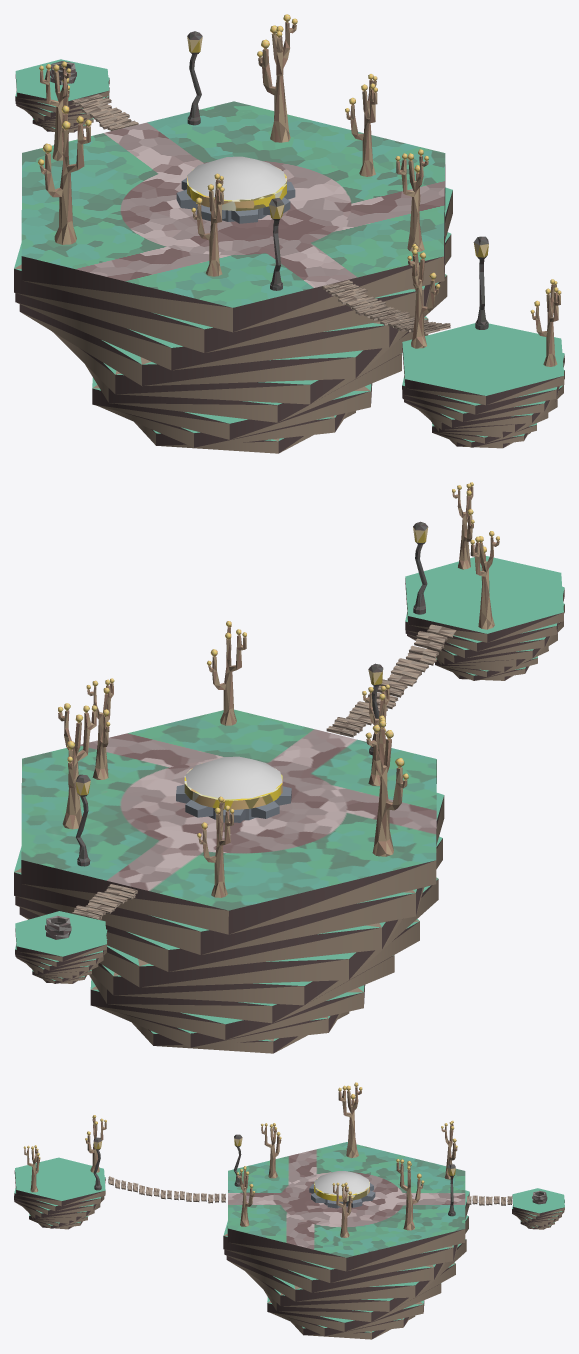
Rendered from Isla_Mecanica_Isla_Entera_v2.FBX.
3 views of the same model, one above another, from view 1: azimuth 30°, elevation 25°; view 2: azimuth 150°, elevation 25°; view 3: azimuth 270°, elevation 25° (orthographic). The views are drawn at different scales.
Parts seen in each view (by area): view 1: Isla_Mecanica_Suelo, Isla_Mecanica_Isla_Grande, Isla_Mecanica_Isla_pequena_suelo001, Isla_Mecanica_Isla_Pequena_002, Isla_Mecanica_Reloj_cupula, Isla_Mecanica_Arbol_011, Isla_Mecanica_Arbol_009, Isla_Fantasma_Puente008, Isla_Mecanica_Isla_pequena_suelo, Isla_Mecanica_Isla_Pequena_01, Isla_Mecanica_Arbol_014, Isla_Mecanica_Arbol_010 (+10 smaller); view 2: Isla_Mecanica_Suelo, Isla_Mecanica_Isla_Grande, Isla_Mecanica_Isla_pequena_suelo001, Isla_Mecanica_Isla_Pequena_002, Isla_Fantasma_Puente008, Isla_Mecanica_Reloj_cupula, Isla_Mecanica_Isla_pequena_suelo, Isla_Mecanica_Arbol_011, Isla_Mecanica_Isla_Pequena_01, Isla_Mecanica_Arbol_009, Isla_Mecanica_Arbol_010, Isla_Mecanica_Arbol_012 (+9 smaller); view 3: Isla_Mecanica_Suelo, Isla_Mecanica_Isla_Grande, Isla_Mecanica_Isla_pequena_suelo001, Isla_Mecanica_Isla_Pequena_002, Isla_Mecanica_Reloj_cupula, Isla_Fantasma_Puente008, Isla_Mecanica_Isla_pequena_suelo, Isla_Mecanica_Arbol_011, Isla_Mecanica_Isla_Pequena_01, Isla_Mecanica_Arbol_009, Isla_Mecanica_Arbol_014, Isla_Mecanica_Arbol_013 (+7 smaller).
Part boxes in pixels (x1=…): Isla_Mecanica_Suelo: x1=21, y1=101, x2=445, y2=307; Isla_Mecanica_Isla_Grande: x1=14, y1=164, x2=452, y2=453; Isla_Mecanica_Isla_pequena_suelo001: x1=402, y1=323, x2=563, y2=395; Isla_Mecanica_Isla_Pequena_002: x1=402, y1=343, x2=564, y2=448; Isla_Mecanica_Reloj_cupula: x1=187, y1=156, x2=285, y2=199; Isla_Mecanica_Arbol_011: x1=38, y1=105, x2=91, y2=244; Isla_Mecanica_Arbol_009: x1=257, y1=14, x2=297, y2=142; Isla_Fantasma_Puente008: x1=322, y1=280, x2=450, y2=334; Isla_Mecanica_Isla_pequena_suelo: x1=15, y1=59, x2=109, y2=100; Isla_Mecanica_Isla_Pequena_01: x1=15, y1=74, x2=109, y2=132; Isla_Mecanica_Arbol_014: x1=345, y1=74, x2=377, y2=176; Isla_Mecanica_Arbol_010: x1=395, y1=149, x2=428, y2=251; Isla_Mecanica_Suelo: x1=21, y1=709, x2=436, y2=910; Isla_Mecanica_Isla_Grande: x1=14, y1=760, x2=444, y2=1053; Isla_Mecanica_Isla_pequena_suelo001: x1=405, y1=556, x2=563, y2=633; Isla_Mecanica_Isla_Pequena_002: x1=405, y1=578, x2=564, y2=680; Isla_Fantasma_Puente008: x1=326, y1=624, x2=456, y2=737; Isla_Mecanica_Reloj_cupula: x1=185, y1=756, x2=282, y2=799; Isla_Mecanica_Isla_pequena_suelo: x1=15, y1=911, x2=106, y2=956; Isla_Mecanica_Arbol_011: x1=365, y1=717, x2=408, y2=856; Isla_Mecanica_Isla_Pequena_01: x1=15, y1=928, x2=107, y2=983; Isla_Mecanica_Arbol_009: x1=58, y1=703, x2=97, y2=829; Isla_Mecanica_Arbol_010: x1=207, y1=621, x2=246, y2=725; Isla_Mecanica_Arbol_012: x1=197, y1=796, x2=234, y2=897; Isla_Mecanica_Suelo: x1=228, y1=1142, x2=465, y2=1257; Isla_Mecanica_Isla_Grande: x1=223, y1=1190, x2=469, y2=1339; Isla_Mecanica_Isla_pequena_suelo001: x1=15, y1=1157, x2=105, y2=1200; Isla_Mecanica_Isla_Pequena_002: x1=14, y1=1170, x2=105, y2=1229; Isla_Mecanica_Reloj_cupula: x1=314, y1=1171, x2=369, y2=1195; Isla_Fantasma_Puente008: x1=108, y1=1176, x2=225, y2=1203; Isla_Mecanica_Isla_pequena_suelo: x1=512, y1=1188, x2=564, y2=1213; Isla_Mecanica_Arbol_011: x1=338, y1=1082, x2=362, y2=1158; Isla_Mecanica_Isla_Pequena_01: x1=512, y1=1195, x2=564, y2=1229; Isla_Mecanica_Arbol_009: x1=396, y1=1159, x2=424, y2=1230; Isla_Mecanica_Arbol_014: x1=332, y1=1182, x2=353, y2=1237; Isla_Mecanica_Arbol_013: x1=261, y1=1123, x2=281, y2=1178.
Bounding box in the file's own units: 2068 × 1549 × 4157.
8 materials, 8 textured.
